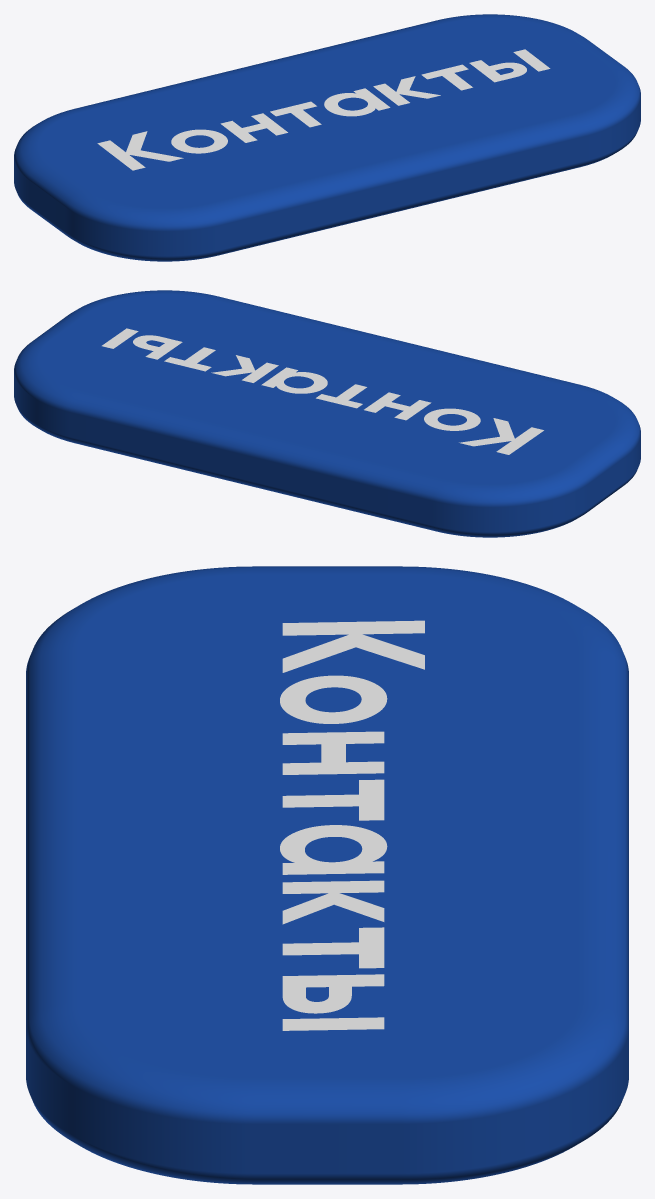
The model's file is contacts.glb.
The picture shows the model from 3 angles, top to bottom: view 1: azimuth 30°, elevation 25°; view 2: azimuth 150°, elevation 25°; view 3: azimuth 270°, elevation 25°; orthographic projection. The views are drawn at different scales.
Parts seen in each view (by area): view 1: контакты, Text 4; view 2: контакты, Text 4; view 3: контакты, Text 4.
Boxes of the visible parts, <box> form: контакты: <box>14,14,640,261</box>; Text 4: <box>97,49,550,170</box>; контакты: <box>14,290,640,537</box>; Text 4: <box>102,328,543,454</box>; контакты: <box>26,566,628,1184</box>; Text 4: <box>280,620,424,1030</box>.
Bounding box in the file's own units: 1.02 × 0.0892 × 0.4731.
